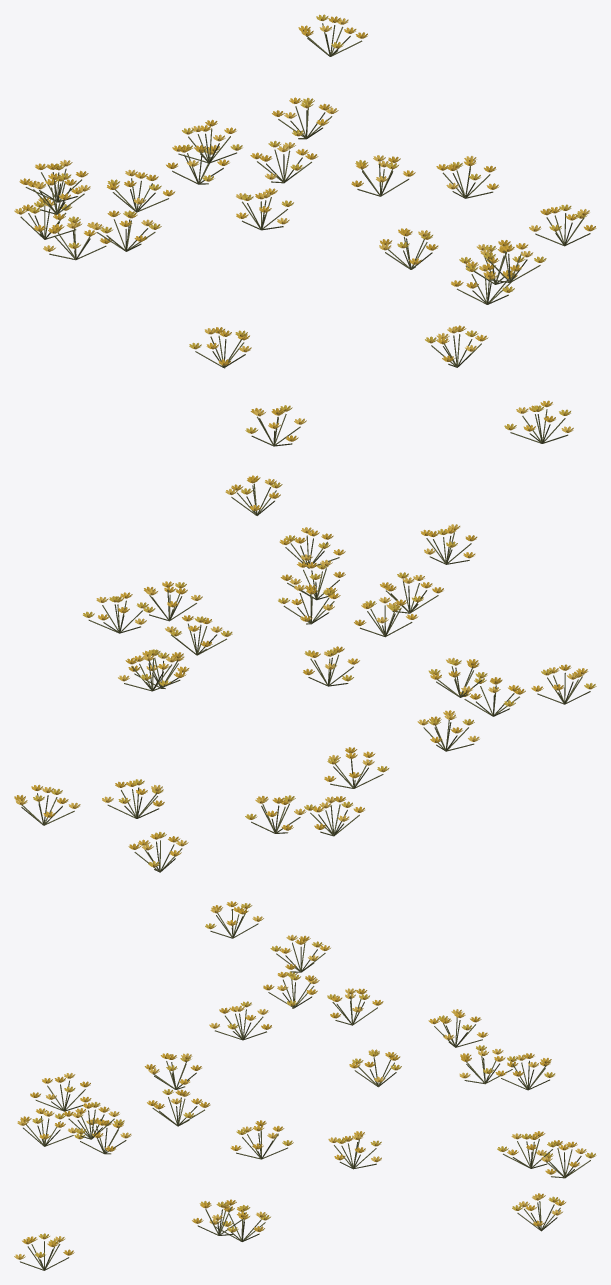
The model's file is golden.glb.
3 views of the same model, one above another, from view 1: azimuth 30°, elevation 25°; view 2: azimuth 150°, elevation 25°; view 3: azimuth 270°, elevation 25° (orthographic). The views are drawn at different scales.
Visible parts, largest first — view 1: golden; view 2: golden; view 3: golden.
Part boxes in pixels (<box>): golden: <box>14,14,596,446</box>; golden: <box>14,475,596,872</box>; golden: <box>14,901,596,1270</box>.
Bounding box in the file's own units: 2.02 × 1.36 × 2.38.
